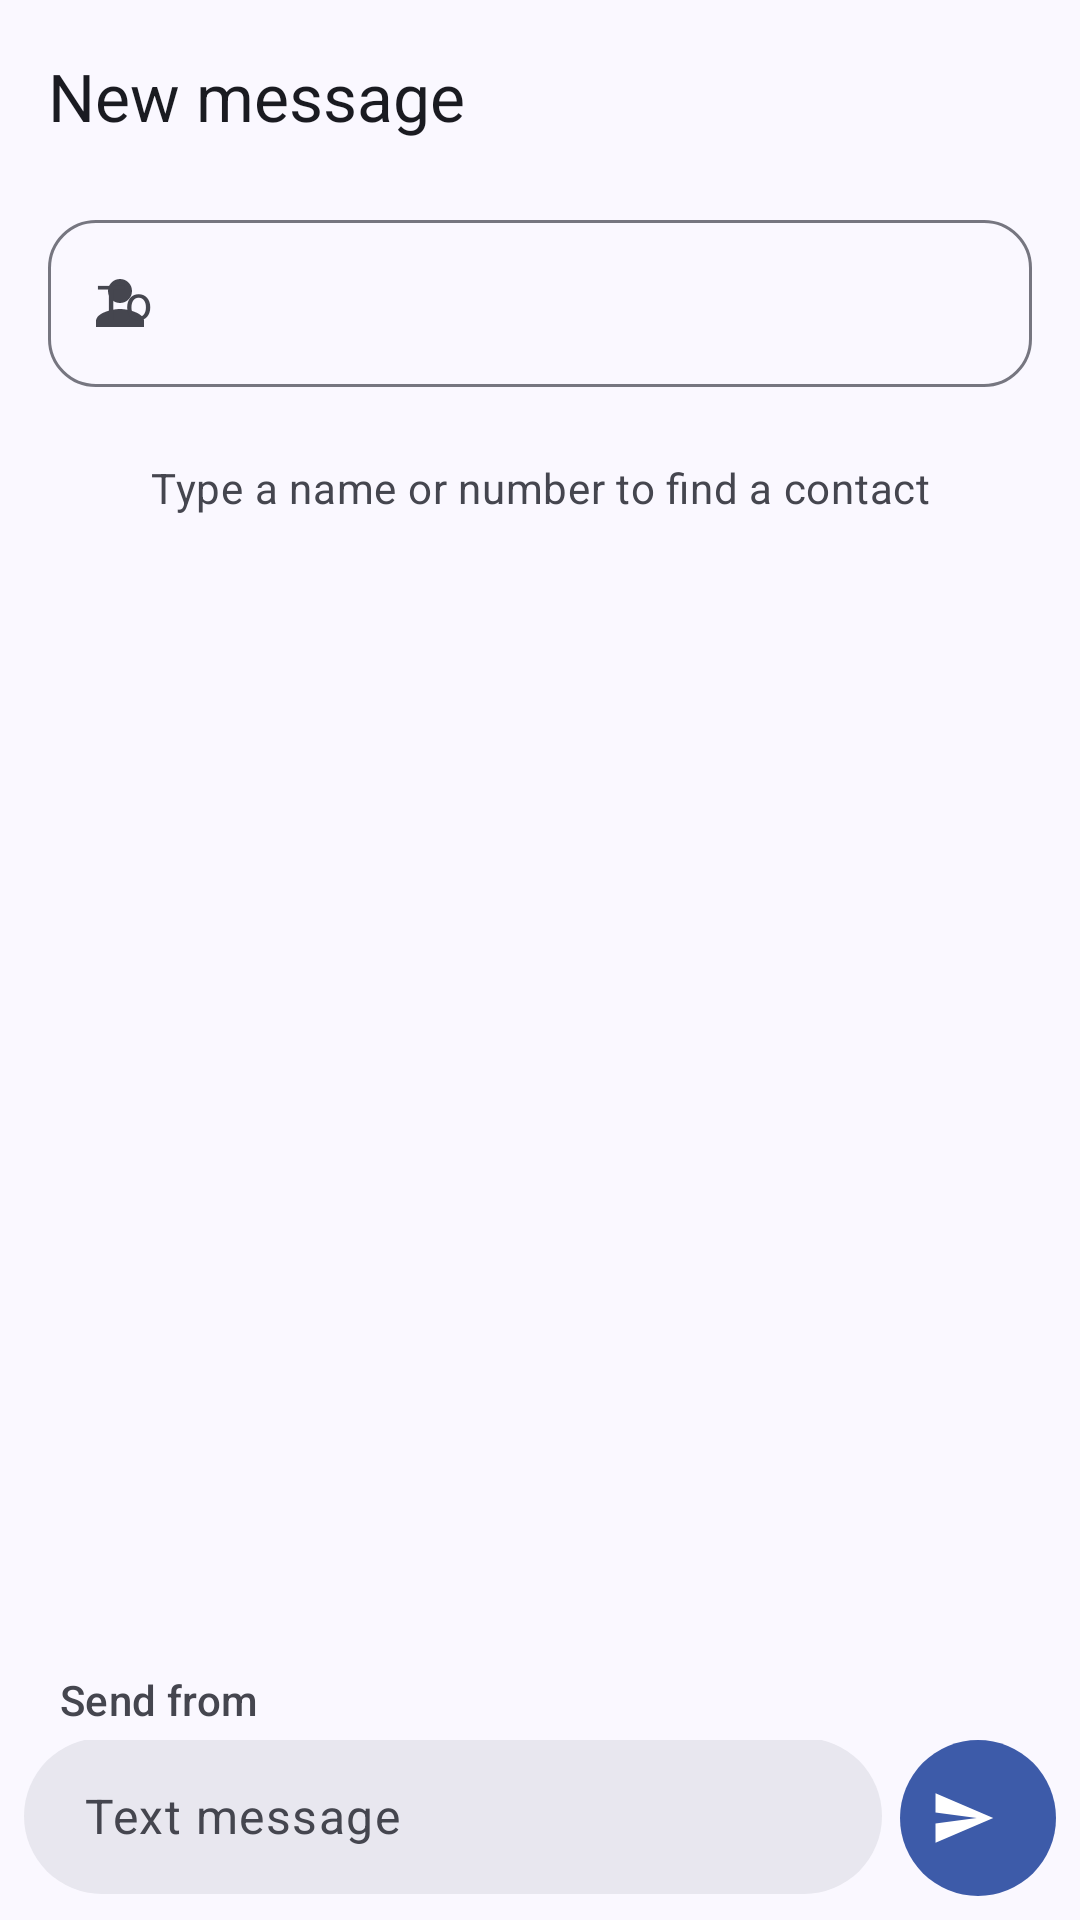

Where to tap for icons on this 1080px x 1920px app screen, as point (x, y):
Send: point (978, 1818)
